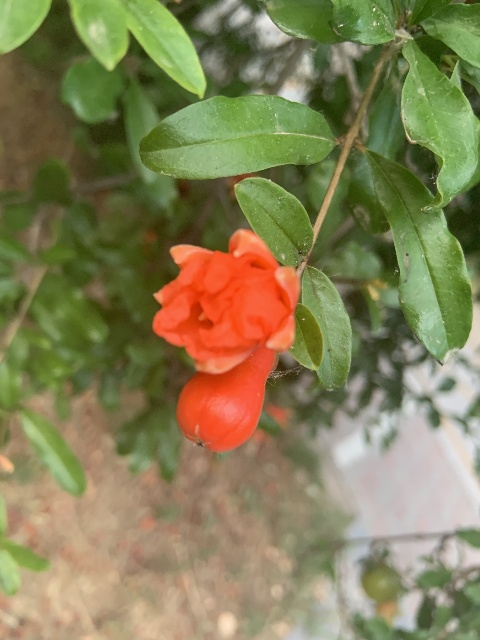bud: (176, 350, 274, 453)
flower: (151, 229, 299, 374)
mid-growth: (362, 567, 403, 625)
